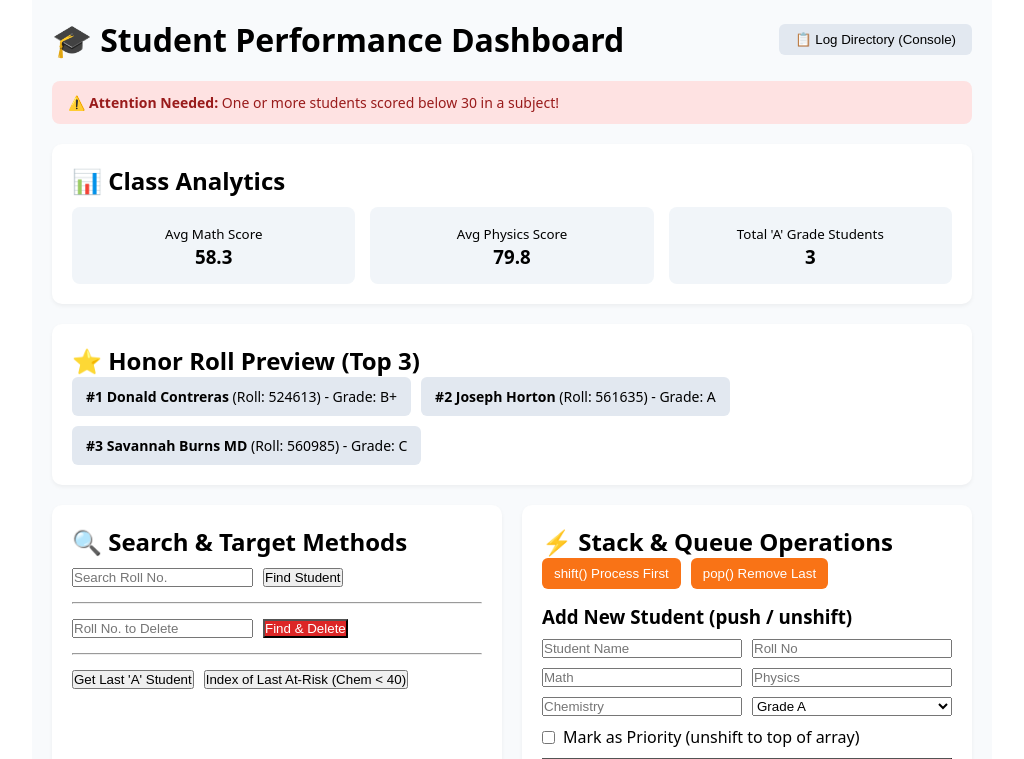
Test: StudentDashboard Component › Stack and queue operations (push + pop + unshift + shift) › should add a student to the end of the list using push
Type "John Doe" into the field with placeholder "Student Name" at point(642, 648), box [542,639,742,658]
Type "999999" into the number field with placeholder "Roll No" at point(852, 648), box [752,639,952,658]
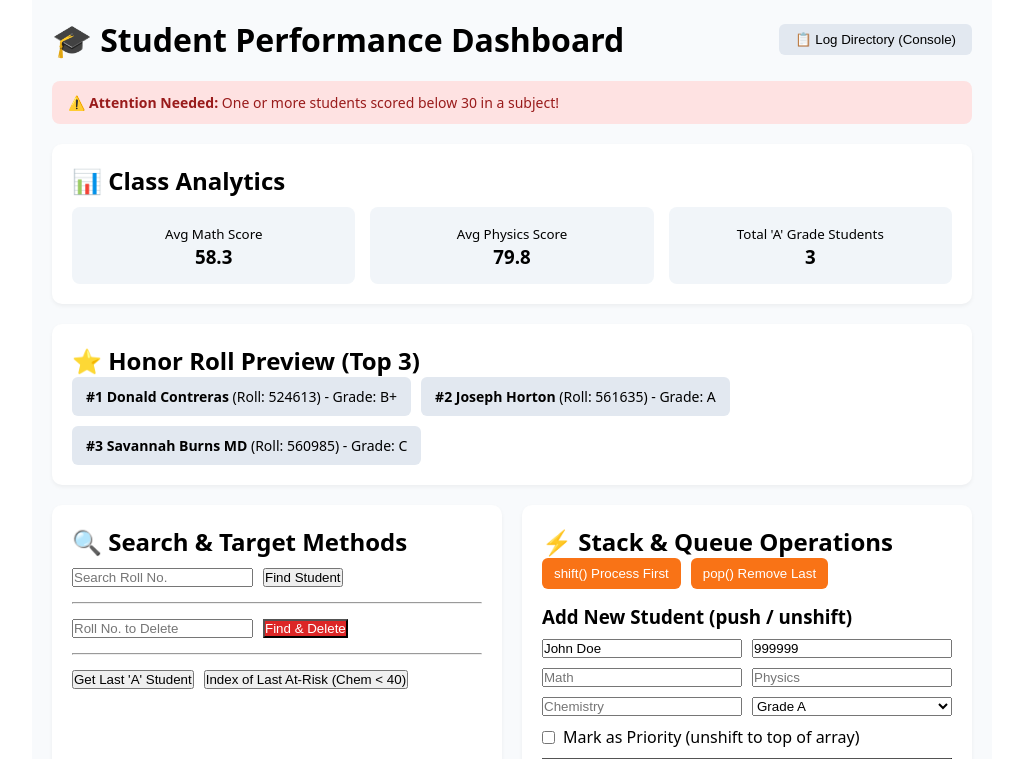
Type "85" into the number field with placeholder "Math" at point(642, 678), box [542,668,742,687]
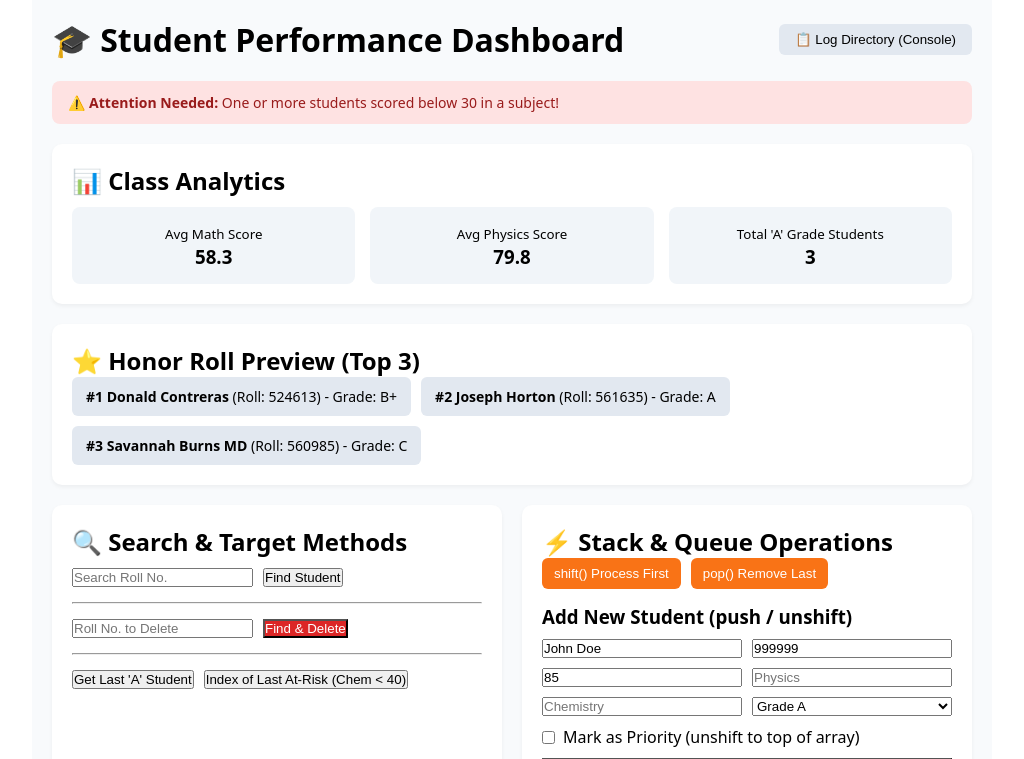
Type "90" into the number field with placeholder "Physics" at point(852, 678), box [752,668,952,687]
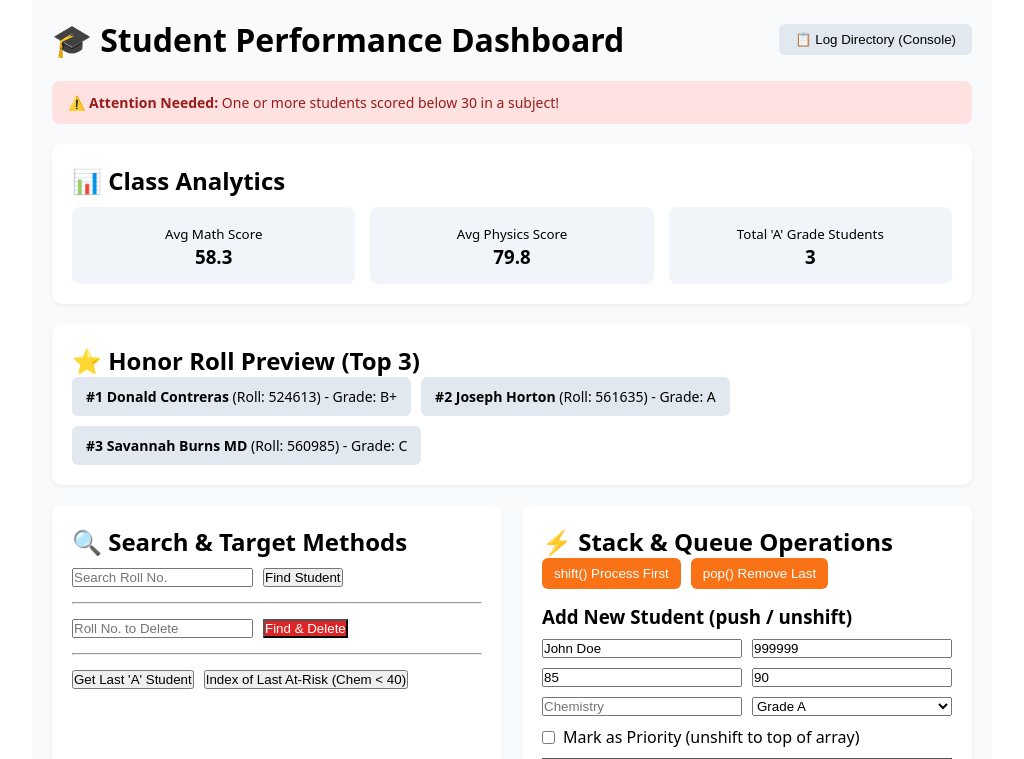
Type "78" into the number field with placeholder "Chemistry" at point(642, 706), box [542,697,742,716]
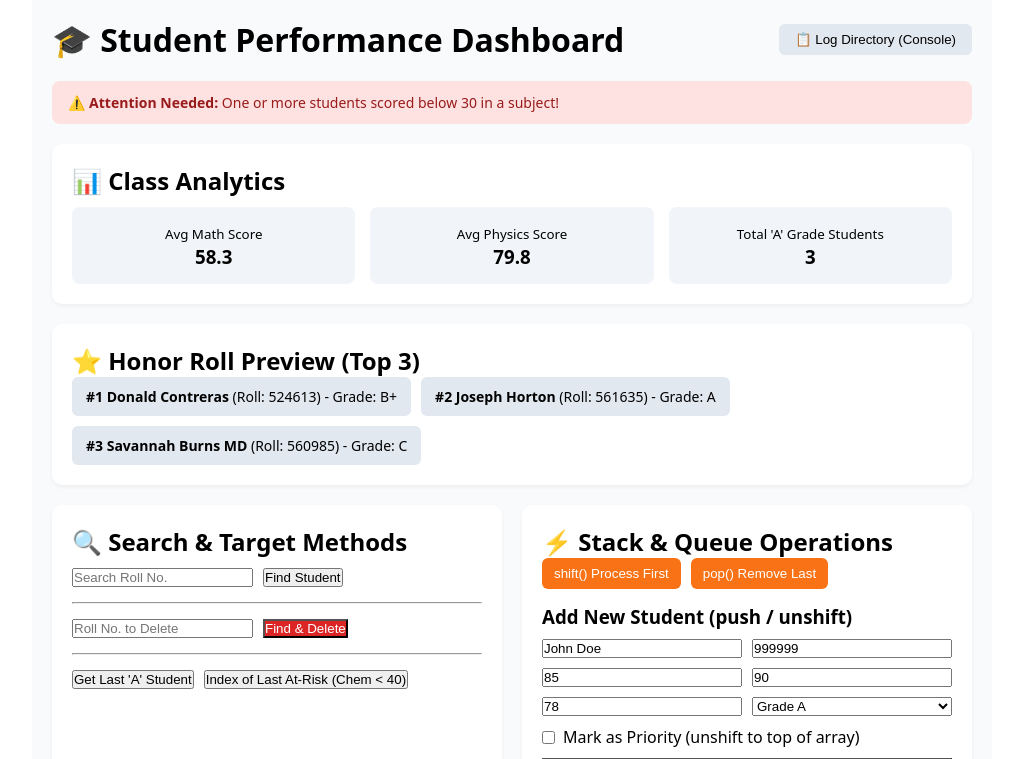
Select "Grade B+" in the dropdown at point(852, 706), box [752,697,952,716]
(page scrolled)
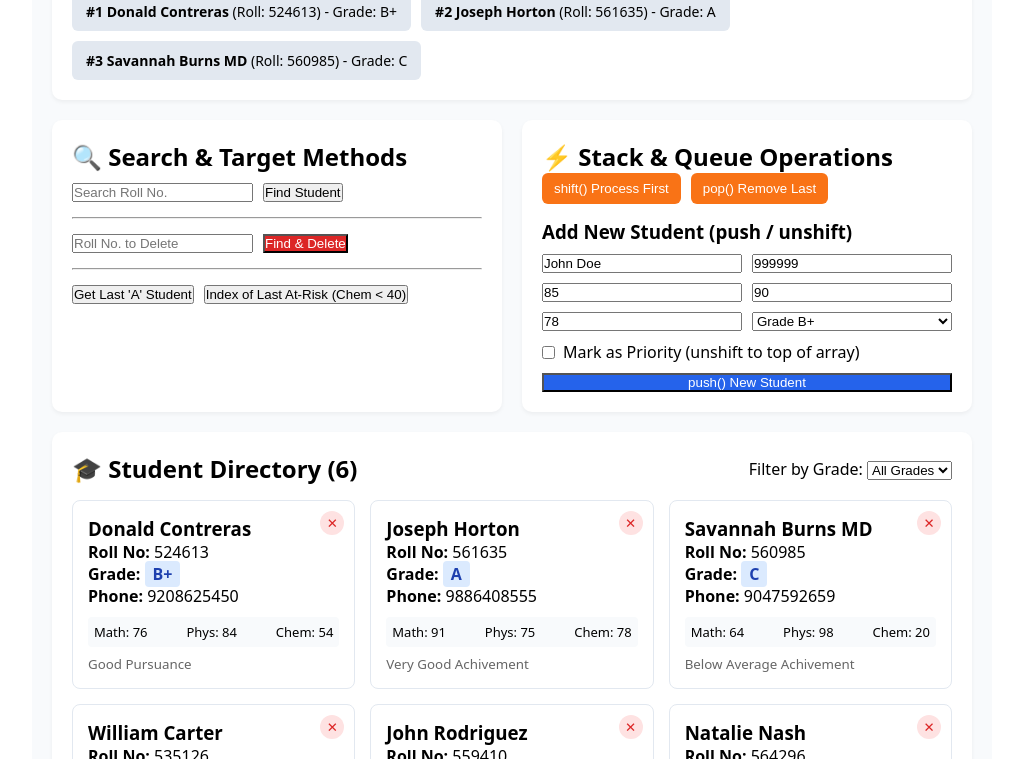
Click the button "push() New Student" at point(747, 382), box [542,373,952,392]
(page scrolled)
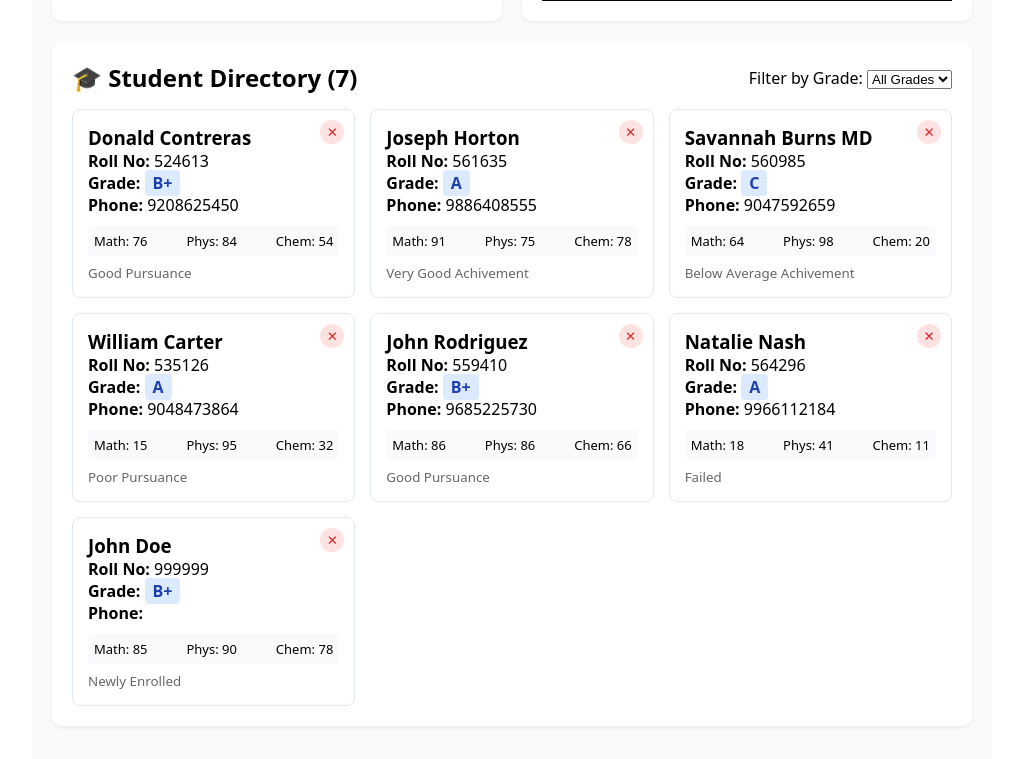
Result: the heading "John Doe" is shown at [88,533,172,558]
